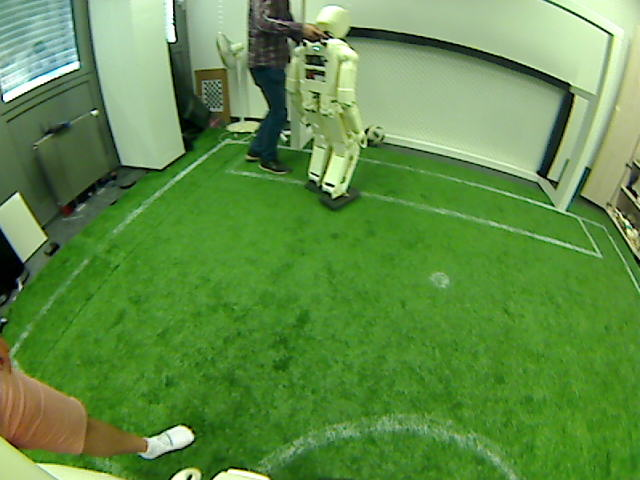ball: (366, 125, 381, 147)
goalpost: (285, 113, 307, 150), (551, 178, 572, 214)
robot: (302, 131, 356, 208)
